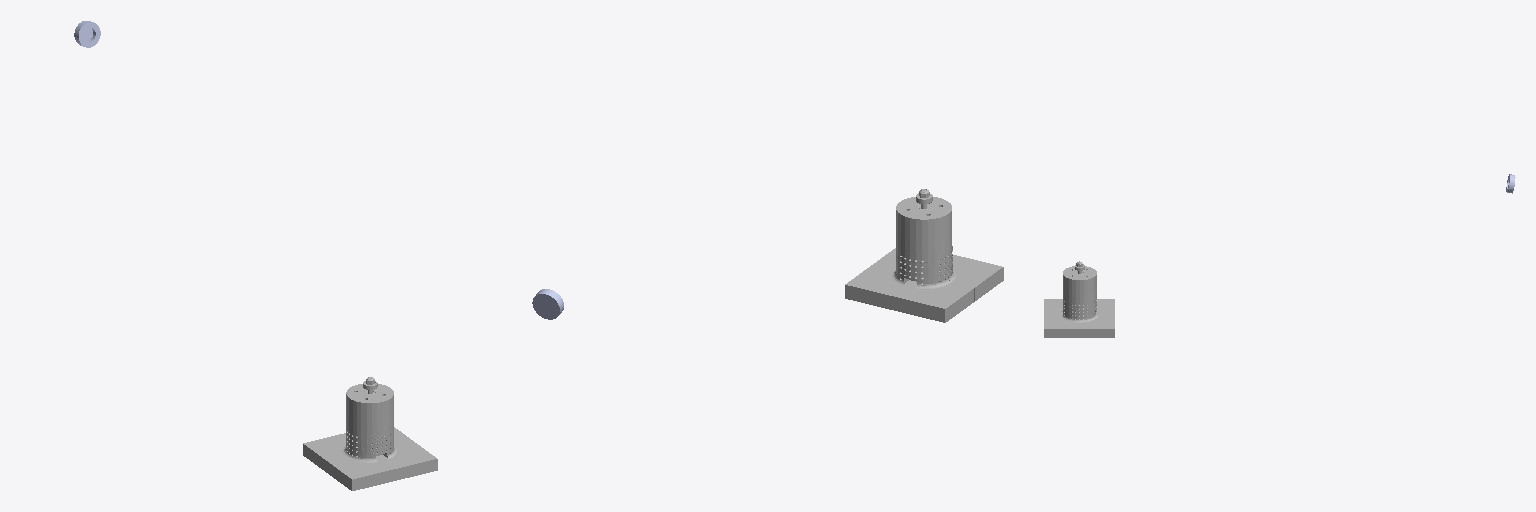
URDF robot description (URDF.SLDASM):
<?xml version="1.0" encoding="utf-8"?>
<!-- This URDF was automatically created by SolidWorks to URDF Exporter! Originally created by [author] ([email redacted]) 
     Commit Version: 1.6.0-1-g15f4949  Build Version: 1.6.7594.29634
     For more information, please see http://wiki.ros.org/sw_urdf_exporter -->
<robot
  name="URDF.SLDASM">
  <link
    name="base_link">
    <inertial>
      <origin
        xyz="-6.64882731495249E-05 7.85530534534538E-08 0.0372113793508206"
        rpy="0 0 0" />
      <mass
        value="0.826569047112773" />
      <inertia
        ixx="0.00128317926906273"
        ixy="3.07837926699108E-09"
        ixz="1.1512899172121E-09"
        iyy="0.0019361502670081"
        iyz="9.46148198492292E-10"
        izz="0.00129114002024673" />
    </inertial>
    <visual>
      <origin
        xyz="0 0 0"
        rpy="0 0 0" />
      <geometry>
        <mesh
          filename="package://URDF.SLDASM/meshes/base_link.STL" />
      </geometry>
      <material
        name="">
        <color
          rgba="0.752941176470588 0.752941176470588 0.752941176470588 1" />
      </material>
    </visual>
    <collision>
      <origin
        xyz="0 0 0"
        rpy="0 0 0" />
      <geometry>
        <mesh
          filename="package://URDF.SLDASM/meshes/base_link.STL" />
      </geometry>
    </collision>
  </link>
  <link
    name="Link1">
    <inertial>
      <origin
        xyz="-0.000166723285039962 3.99242581691177E-05 0.0364606307193845"
        rpy="0 0 0" />
      <mass
        value="0.336146612178727" />
      <inertia
        ixx="0.000200165674616881"
        ixy="-1.63989090796318E-09"
        ixz="-3.49362522029313E-07"
        iyy="0.000195186011544854"
        iyz="2.59258046646595E-09"
        izz="0.00018163132991926" />
    </inertial>
    <visual>
      <origin
        xyz="0 0 0"
        rpy="0 0 0" />
      <geometry>
        <mesh
          filename="package://URDF.SLDASM/meshes/Link1.STL" />
      </geometry>
      <material
        name="">
        <color
          rgba="0.752941176470588 0.752941176470588 0.752941176470588 1" />
      </material>
    </visual>
    <collision>
      <origin
        xyz="0 0 0"
        rpy="0 0 0" />
      <geometry>
        <mesh
          filename="package://URDF.SLDASM/meshes/Link1.STL" />
      </geometry>
    </collision>
  </link>
  <joint
    name="Joint0"
    type="continuous">
    <origin
      xyz="0 0 0.124"
      rpy="0 0 -0.0649357797465708" />
    <parent
      link="base_link" />
    <child
      link="Link1" />
    <axis
      xyz="0 0 1" />
  </joint>
  <link
    name="Link2">
    <inertial>
      <origin
        xyz="-0.00103364381428033 0.00282106294471786 0.240959238482709"
        rpy="0 0 0" />
      <mass
        value="1.52616310106415" />
      <inertia
        ixx="0.0126688243865777"
        ixy="1.54927696827166E-09"
        ixz="2.61016168962436E-07"
        iyy="0.0129494550255387"
        iyz="-5.38543874033167E-09"
        izz="0.00116606729126069" />
    </inertial>
    <visual>
      <origin
        xyz="0 0 0"
        rpy="0 0 0" />
      <geometry>
        <mesh
          filename="package://URDF.SLDASM/meshes/Link2.STL" />
      </geometry>
      <material
        name="">
        <color
          rgba="0.752941176470588 0.752941176470588 0.752941176470588 1" />
      </material>
    </visual>
    <collision>
      <origin
        xyz="0 0 0"
        rpy="0 0 0" />
      <geometry>
        <mesh
          filename="package://URDF.SLDASM/meshes/Link2.STL" />
      </geometry>
    </collision>
  </link>
  <joint
    name="Joint1"
    type="continuous">
    <origin
      xyz="0 0 0.05"
      rpy="-0.491164443798803 0 0" />
    <parent
      link="Link1" />
    <child
      link="Link2" />
    <axis
      xyz="1 0 0" />
  </joint>
  <link
    name="Link3">
    <inertial>
      <origin
        xyz="-0.00200005155118979 -1.28225251305736E-07 0.273278911663861"
        rpy="0 0 0" />
      <mass
        value="1.72916992416721" />
      <inertia
        ixx="0.0131991209795048"
        ixy="2.33957970176475E-09"
        ixz="1.07739684571627E-09"
        iyy="0.0133695518791343"
        iyz="2.95897081974434E-10"
        izz="0.0012355742316079" />
    </inertial>
    <visual>
      <origin
        xyz="0 0 0"
        rpy="0 0 0" />
      <geometry>
        <mesh
          filename="package://URDF.SLDASM/meshes/Link3.STL" />
      </geometry>
      <material
        name="">
        <color
          rgba="0.752941176470588 0.752941176470588 0.752941176470588 1" />
      </material>
    </visual>
    <collision>
      <origin
        xyz="0 0 0"
        rpy="0 0 0" />
      <geometry>
        <mesh
          filename="package://URDF.SLDASM/meshes/Link3.STL" />
      </geometry>
    </collision>
  </link>
  <joint
    name="Joint2"
    type="continuous">
    <origin
      xyz="0 0.00282991797538142 0.393220402882636"
      rpy="-1.34047867238601 0 0" />
    <parent
      link="Link2" />
    <child
      link="Link3" />
    <axis
      xyz="1 0 0" />
  </joint>
  <link
    name="Link4">
    <inertial>
      <origin
        xyz="3.99435641686985E-05 0.000166550965478685 0.0375140550632704"
        rpy="0 0 0" />
      <mass
        value="0.33614578602941" />
      <inertia
        ixx="0.000195186061386812"
        ixy="1.01068337539693E-09"
        ixz="2.51216636781883E-09"
        iyy="0.000200166580317713"
        iyz="3.49496476758147E-07"
        izz="0.00018163206778205" />
    </inertial>
    <visual>
      <origin
        xyz="0 0 0"
        rpy="0 0 0" />
      <geometry>
        <mesh
          filename="package://URDF.SLDASM/meshes/Link4.STL" />
      </geometry>
      <material
        name="">
        <color
          rgba="0.752941176470588 0.752941176470588 0.752941176470588 1" />
      </material>
    </visual>
    <collision>
      <origin
        xyz="0 0 0"
        rpy="0 0 0" />
      <geometry>
        <mesh
          filename="package://URDF.SLDASM/meshes/Link4.STL" />
      </geometry>
    </collision>
  </link>
  <joint
    name="Joint3"
    type="continuous">
    <origin
      xyz="-0.00199999999999989 0 0.499457607867746"
      rpy="0 0 0.536640228499924" />
    <parent
      link="Link3" />
    <child
      link="Link4" />
    <axis
      xyz="0 0 1" />
  </joint>
  <link
    name="Link5">
    <inertial>
      <origin
        xyz="-0.000975750985627355 0.000722913552429177 0.104906752760861"
        rpy="0 0 0" />
      <mass
        value="0.55697534535204" />
      <inertia
        ixx="0.000528184542778978"
        ixy="-6.60880841198141E-09"
        ixz="1.06627678868586E-09"
        iyy="0.000542241783937023"
        iyz="-1.42721121157382E-09"
        izz="0.000323926239054427" />
    </inertial>
    <visual>
      <origin
        xyz="0 0 0"
        rpy="0 0 0" />
      <geometry>
        <mesh
          filename="package://URDF.SLDASM/meshes/Link5.STL" />
      </geometry>
      <material
        name="">
        <color
          rgba="0.752941176470588 0.752941176470588 0.752941176470588 1" />
      </material>
    </visual>
    <collision>
      <origin
        xyz="0 0 0"
        rpy="0 0 0" />
      <geometry>
        <mesh
          filename="package://URDF.SLDASM/meshes/Link5.STL" />
      </geometry>
    </collision>
  </link>
  <joint
    name="Joint4"
    type="continuous">
    <origin
      xyz="0 0 0.0499999999999999"
      rpy="-0.141756156992662 0 1.57079632679489" />
    <parent
      link="Link4" />
    <child
      link="Link5" />
    <axis
      xyz="1 0 0" />
  </joint>
  <link
    name="Link6">
    <inertial>
      <origin
        xyz="-1.11022302462516E-16 0.00565280918491384 0"
        rpy="0 0 0" />
      <mass
        value="0.0124187157596404" />
      <inertia
        ixx="1.57736739923924E-06"
        ixy="6.45200877791362E-22"
        ixz="-1.05879118406788E-22"
        iyy="2.85494274430196E-06"
        iyz="4.63221143029695E-23"
        izz="1.57736739923924E-06" />
    </inertial>
    <visual>
      <origin
        xyz="0 0 0"
        rpy="0 0 0" />
      <geometry>
        <mesh
          filename="package://URDF.SLDASM/meshes/Link6.STL" />
      </geometry>
      <material
        name="">
        <color
          rgba="0.792156862745098 0.819607843137255 0.933333333333333 1" />
      </material>
    </visual>
    <collision>
      <origin
        xyz="0 0 0"
        rpy="0 0 0" />
      <geometry>
        <mesh
          filename="package://URDF.SLDASM/meshes/Link6.STL" />
      </geometry>
    </collision>
  </link>
  <joint
    name="Joint5"
    type="continuous">
    <origin
      xyz="-0.00100000000000011 0.000698850719416777 0.197138621123125"
      rpy="1.5707963267949 0 2.88539806004341" />
    <parent
      link="Link5" />
    <child
      link="Link6" />
    <axis
      xyz="0 -1 0" />
  </joint>
</robot>

--- Facts derived from the render (not from the file) ---
Views: 3 orthographic renders of the robot side by side, from view 1: azimuth 30°, elevation 25°; view 2: azimuth 150°, elevation 25°; view 3: azimuth 270°, elevation 25°.
Model URDF.SLDASM with 7 links and 6 joints (6 continuous), rooted at base_link, posed all joints at 0.
Visible links, largest first — view 1: base_link, Link6; view 2: base_link, Link6; view 3: base_link.
Link boxes in pixels (left/top/right/bottom): base_link: left=303, top=377, right=437, bottom=490; Link6: left=74, top=21, right=100, bottom=47; base_link: left=845, top=189, right=1003, bottom=322; Link6: left=532, top=289, right=563, bottom=319; base_link: left=1044, top=261, right=1114, bottom=337.
Bounding box of the posed robot: 0.1502 × 1 × 0.3621 m (x, y, z).
Meshes: 7 distinct files referenced, 2 mesh visuals loaded (2 binary STL); not drawn: 5 (reference not matched to a file when rendering).